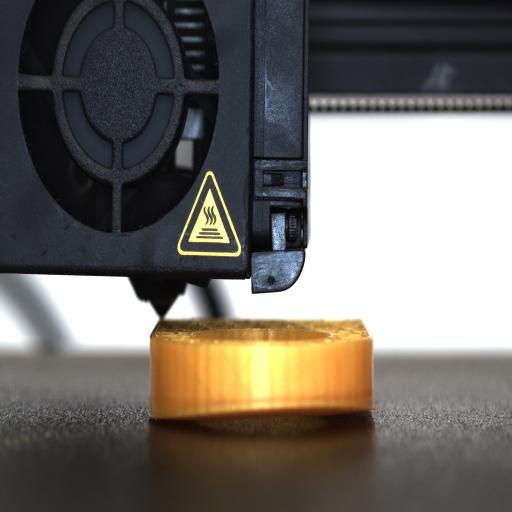warp: (154, 401, 360, 424)
